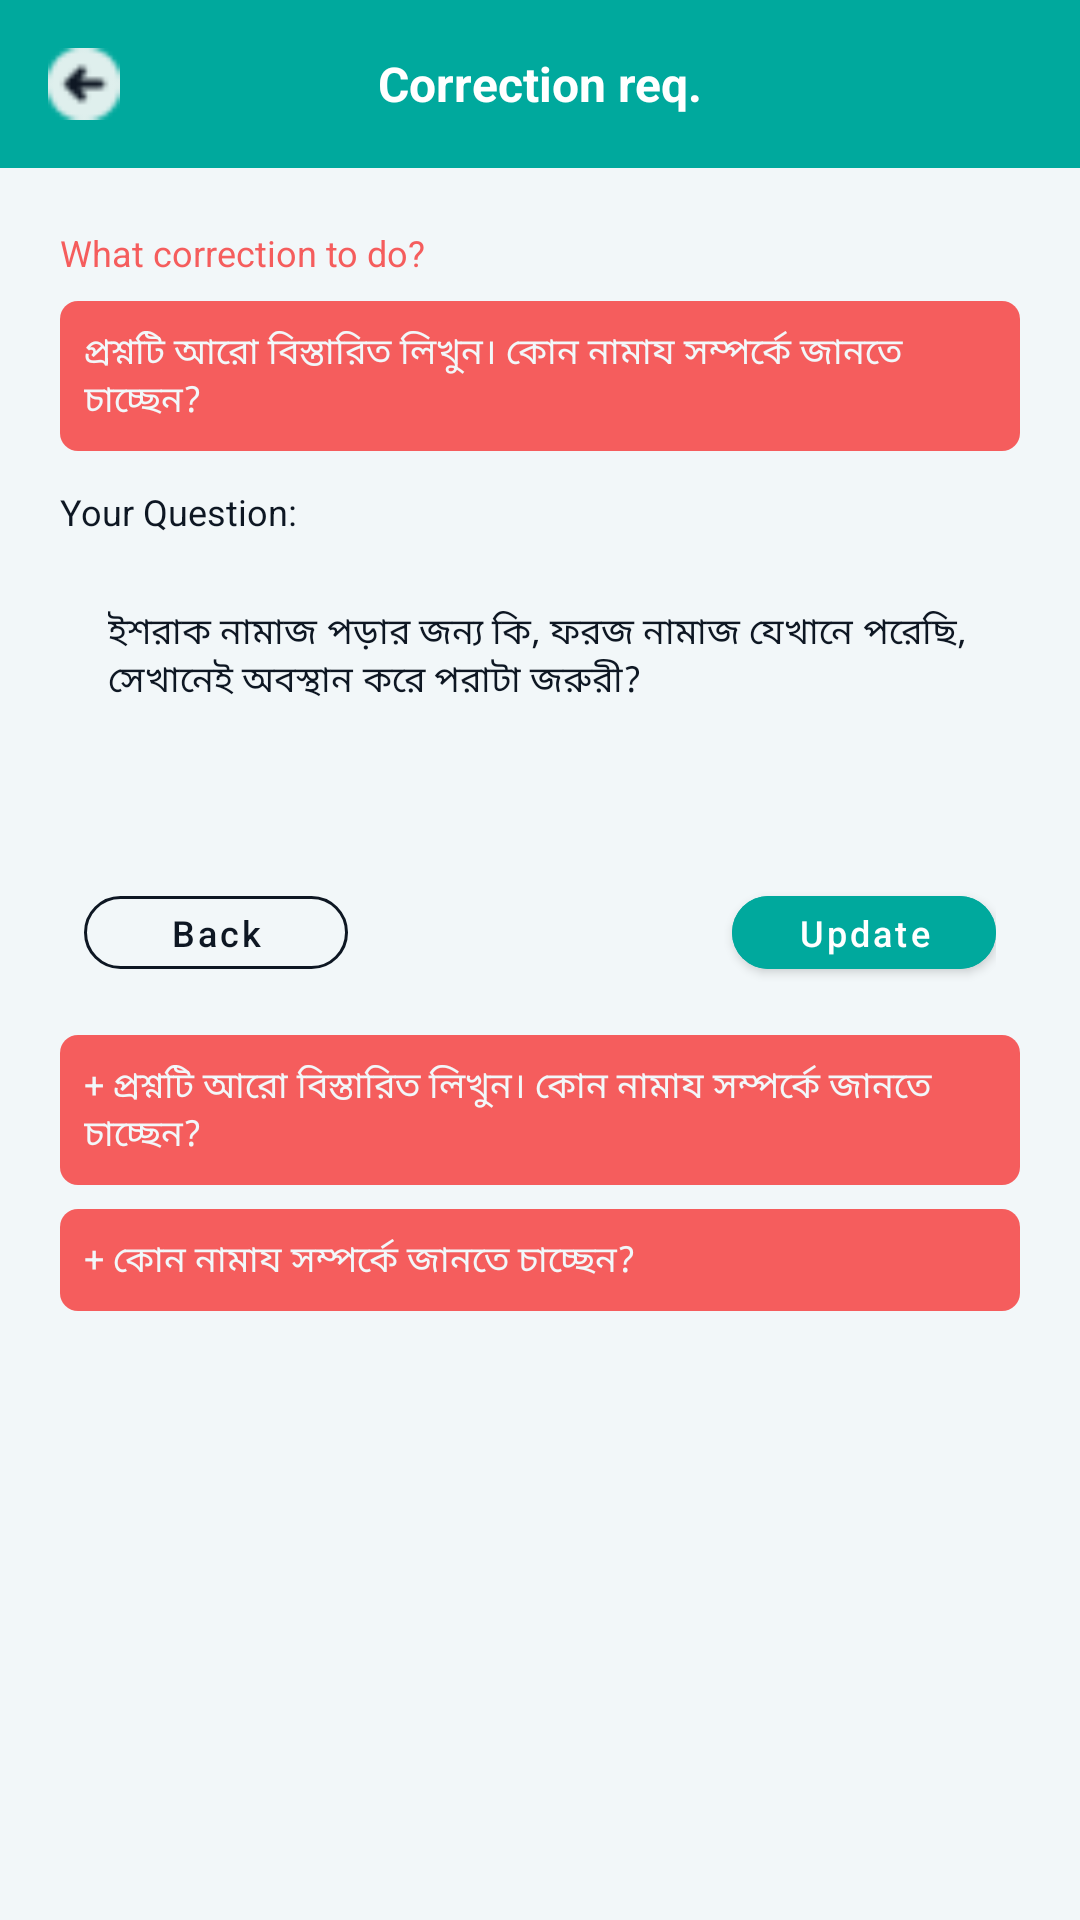

Where icons sit on this 1080 × 1920 app screen, as (x1, y1, x2, y2):
previous: (48, 48, 120, 120)
